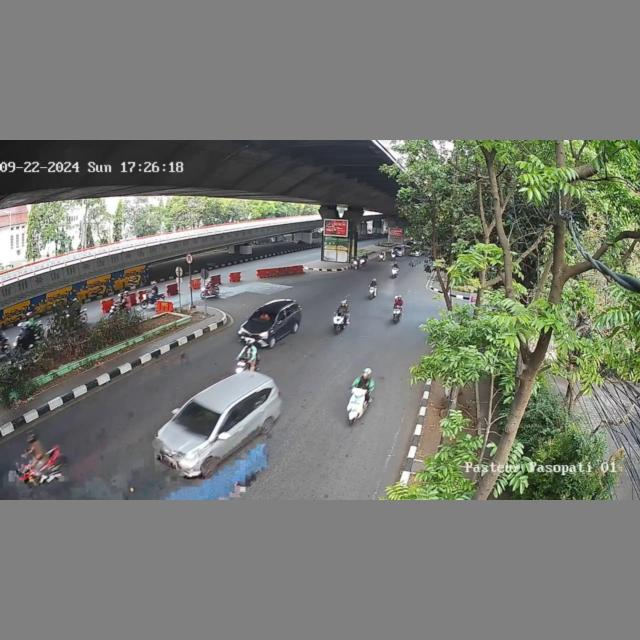windshield: (174, 402, 222, 436), (250, 308, 277, 325)
